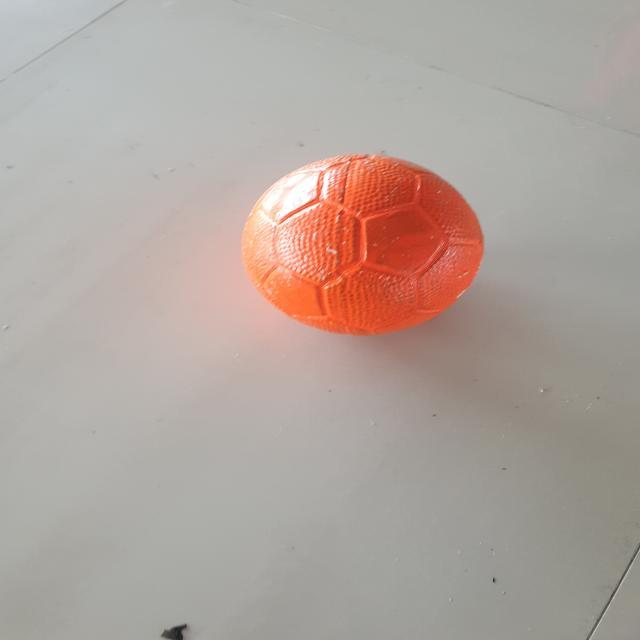bola: (205, 136, 507, 352)
